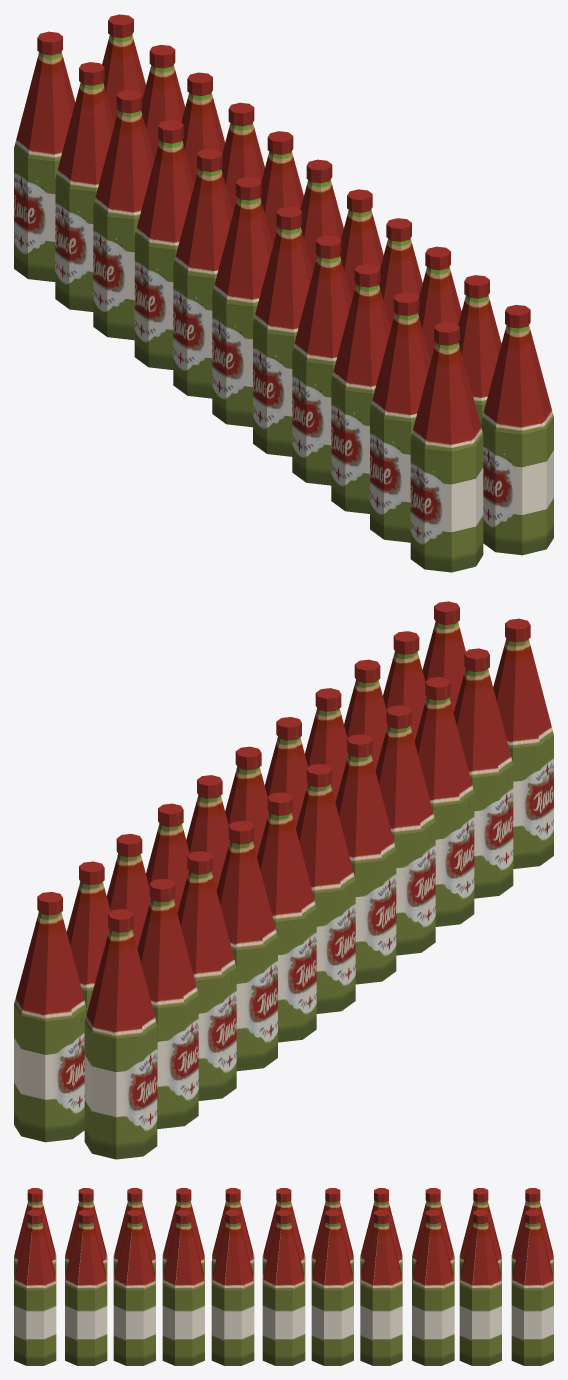
Rendered from beer2pile.fbx.
The picture shows the model from 3 angles, top to bottom: view 1: azimuth 30°, elevation 25°; view 2: azimuth 150°, elevation 25°; view 3: azimuth 270°, elevation 25°; orthographic projection. The views are drawn at different scales.
Parts seen in each view (by area): view 1: Beer Bottle.013; view 2: Beer Bottle.013; view 3: Beer Bottle.013.
Boxes of the visible parts, box(x1,y1,x2,y2) form: Beer Bottle.013: box(14, 14, 553, 572); Beer Bottle.013: box(14, 601, 553, 1159); Beer Bottle.013: box(14, 1188, 553, 1365).
Bounding box in the file's own units: 56.5 × 95.92 × 326.
